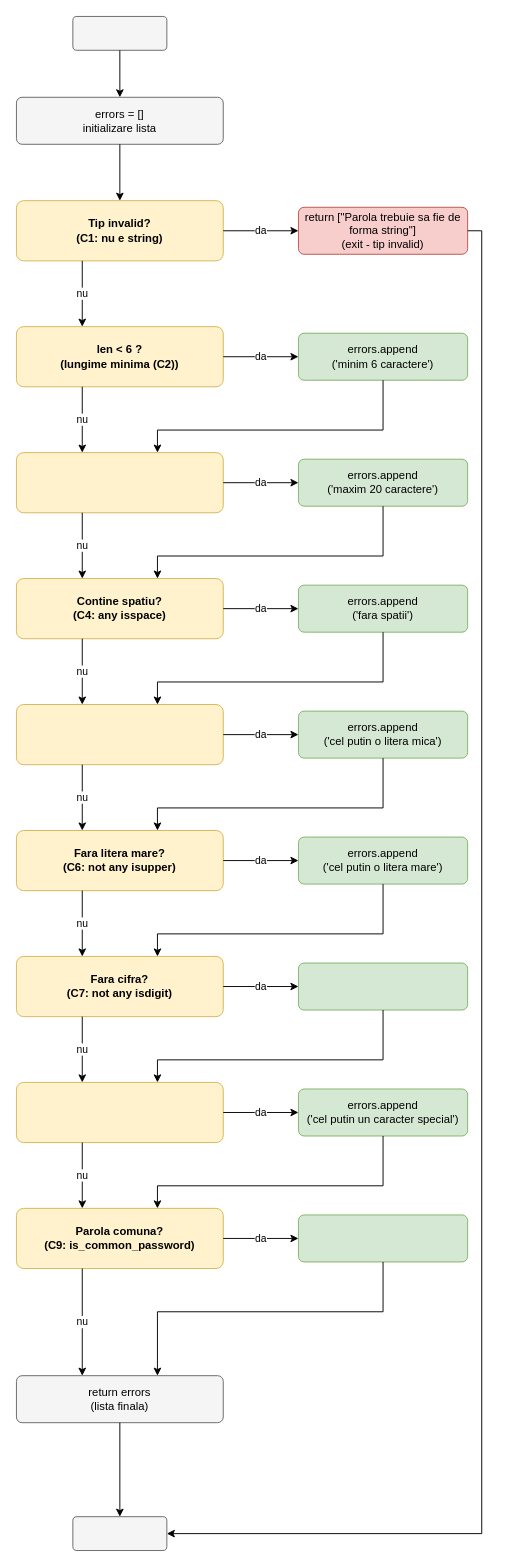
Some shapes in this 506 by 1567 pixel diagram are drawn without their labels. Each missing label, with the box of its shape:
End: (72, 1516, 167, 1551)
errors.append ('cel putin o cifra'): (298, 962, 468, 1010)
errors.append ('parola comuna'): (298, 1214, 468, 1262)
Fara caracter special? (C8: not any in SPECIAL_CHARACTERS): (16, 1081, 223, 1143)
Fara litera mica? (C5: not any islower): (16, 704, 223, 765)
len > 20 ? (lungime maxima (C3)): (16, 452, 223, 513)
Start: (72, 16, 167, 50)
